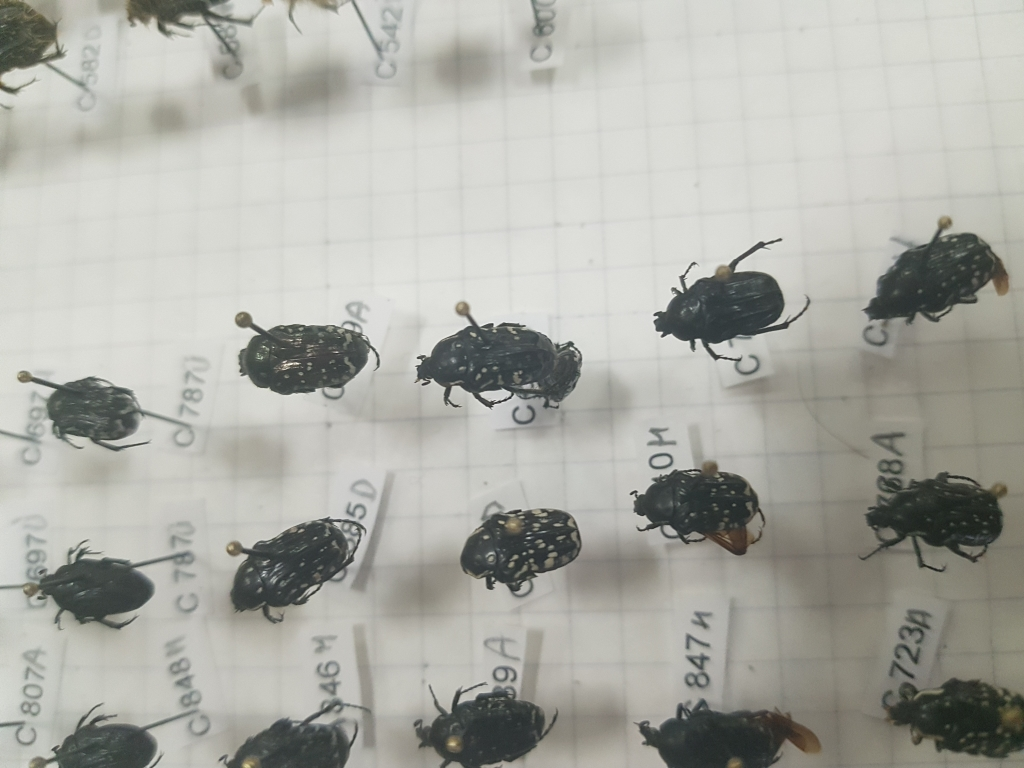Oxythyrea_albopicta: (215, 312, 394, 407), (218, 512, 361, 630), (453, 500, 586, 597)
